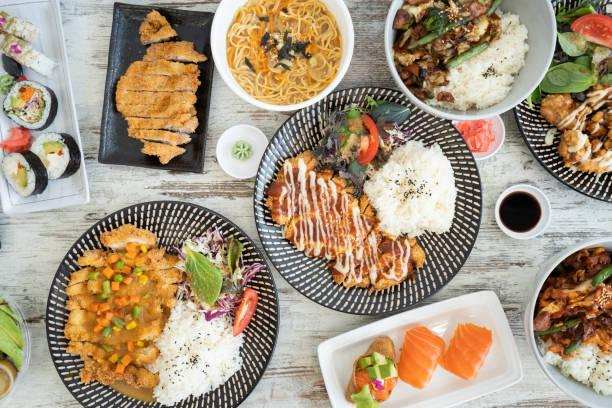Braised Crucian Carp: (252, 85, 473, 314), (47, 201, 274, 407), (317, 289, 523, 405), (385, 1, 552, 123), (98, 2, 215, 174), (0, 0, 91, 217), (211, 0, 352, 114)
